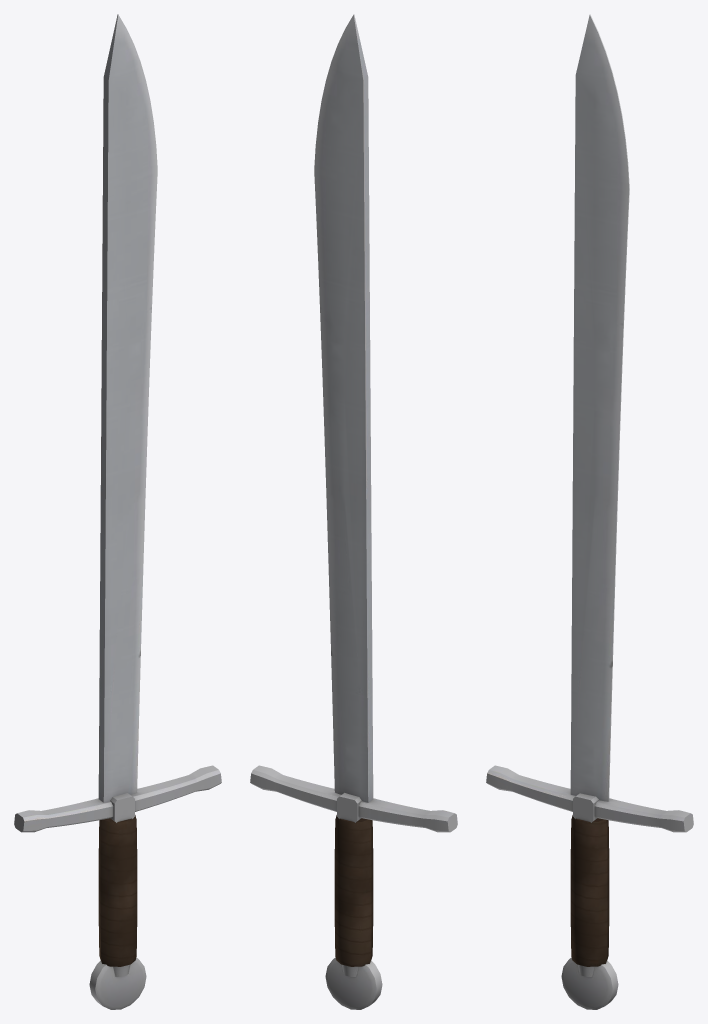
The model's file is falchion.glb.
The picture shows the model from 3 angles, left to right: view 1: azimuth 30°, elevation 25°; view 2: azimuth 150°, elevation 25°; view 3: azimuth 330°, elevation 25°; orthographic projection.
Visible parts, largest first — view 1: SM_V_falchion, SM_V_falchion_Faste; view 2: SM_V_falchion, SM_V_falchion_Faste; view 3: SM_V_falchion, SM_V_falchion_Faste.
Part boxes in pixels (left/top/right/bottom): SM_V_falchion: left=98, top=14, right=157, bottom=966; SM_V_falchion_Faste: left=14, top=765, right=221, bottom=1009; SM_V_falchion: left=314, top=14, right=373, bottom=966; SM_V_falchion_Faste: left=250, top=765, right=457, bottom=1009; SM_V_falchion: left=570, top=14, right=629, bottom=966; SM_V_falchion_Faste: left=486, top=765, right=693, bottom=1009.
Bounding box in the file's own units: 0.2016 × 0.961 × 0.0303.
1 material, 1 textured.
